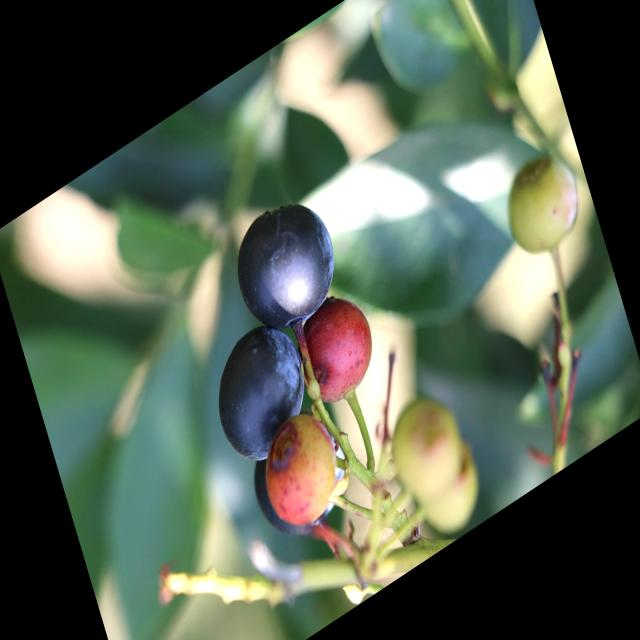blueberry: (222, 175, 354, 364), (199, 303, 325, 492), (241, 406, 362, 565)
blueberry-halfripe: (289, 277, 385, 422), (255, 399, 346, 538)
blueberry-unripe: (496, 136, 593, 274), (382, 383, 467, 510)
